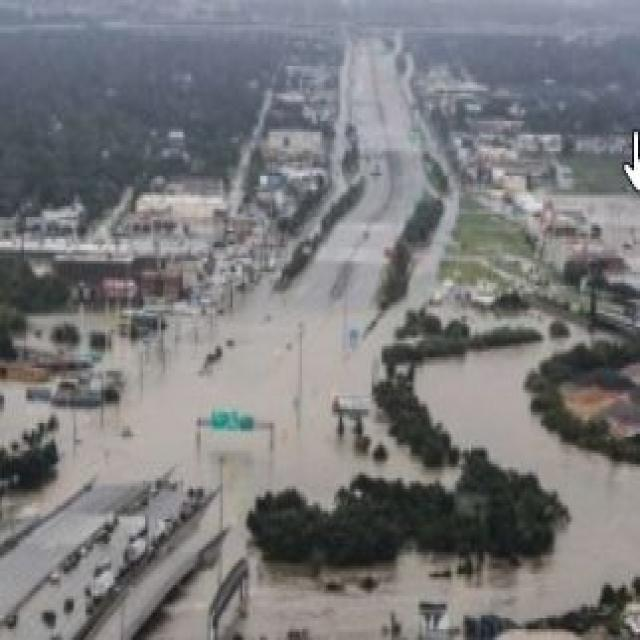flooded_areas: (0, 280, 628, 635)
